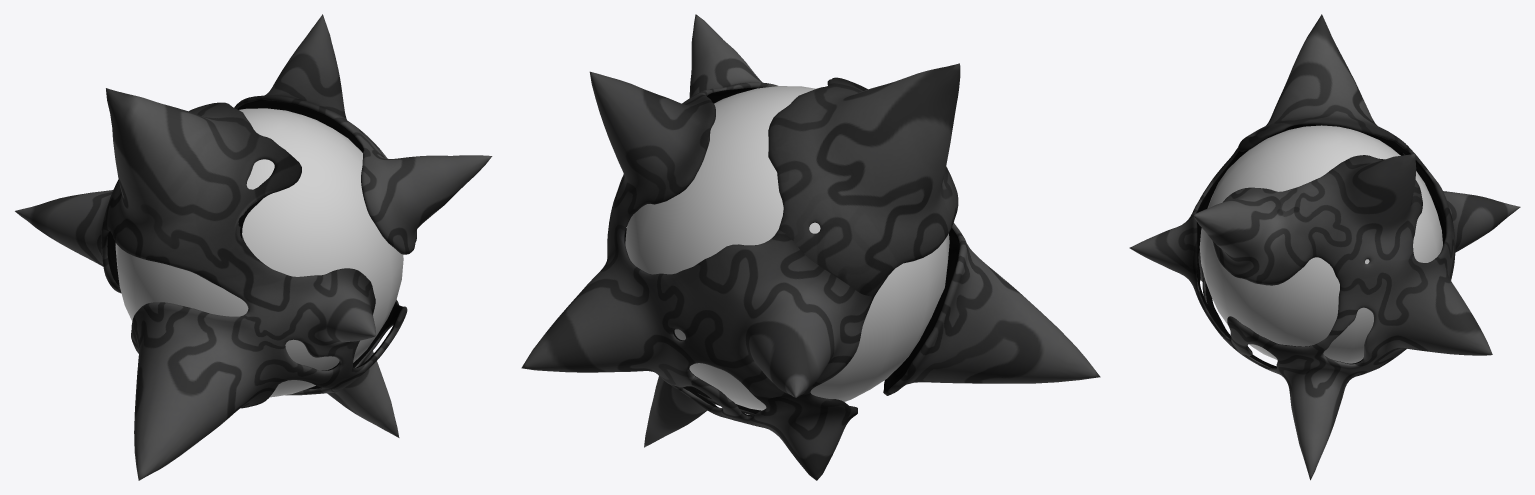
File: New_Pathogen_texture.fbx
3 renders of one model, left to right at view 1: azimuth 30°, elevation 25°; view 2: azimuth 150°, elevation 25°; view 3: azimuth 270°, elevation 25°, orthographic. The views are drawn at different scales.
Visible parts, largest first — view 1: OuterSphere_Topology, InnerSphere_Topology; view 2: OuterSphere_Topology, InnerSphere_Topology; view 3: OuterSphere_Topology, InnerSphere_Topology.
Part boxes in pixels (bbox=[...]): OuterSphere_Topology: bbox=[15, 14, 492, 480]; InnerSphere_Topology: bbox=[115, 108, 403, 397]; OuterSphere_Topology: bbox=[521, 14, 1100, 480]; InnerSphere_Topology: bbox=[625, 86, 949, 410]; OuterSphere_Topology: bbox=[1129, 14, 1520, 480]; InnerSphere_Topology: bbox=[1199, 125, 1442, 363].
Size of the model in its own units: 2.15 by 2.4 by 2.43.
